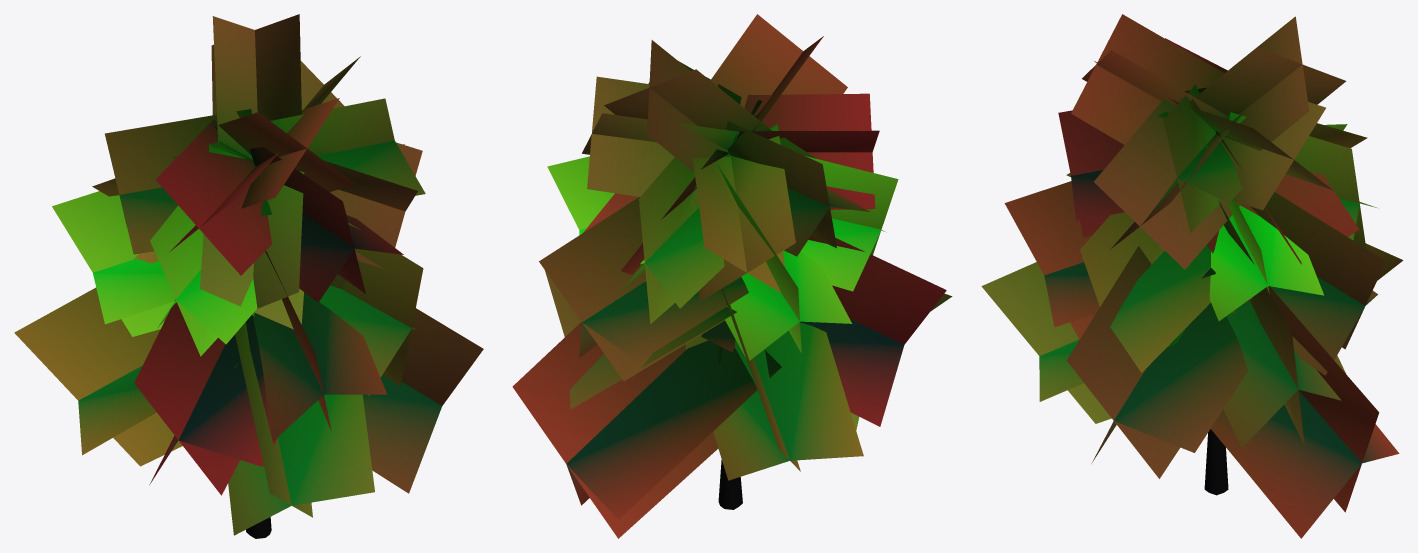
Rendered from Super_11_4.fbx.
The picture shows the model from 3 angles, left to right: view 1: azimuth 30°, elevation 25°; view 2: azimuth 150°, elevation 25°; view 3: azimuth 270°, elevation 25°; orthographic projection. The views are drawn at different scales.
Visible parts, largest first — view 1: Super_11_4; view 2: Super_11_4; view 3: Super_11_4.
Part boxes in pixels (x1,y1,x2,y2): Super_11_4: (14, 14, 483, 538); Super_11_4: (512, 14, 952, 538); Super_11_4: (981, 14, 1403, 538).
Bounding box in the file's own units: 1443 × 1952 × 1586.
